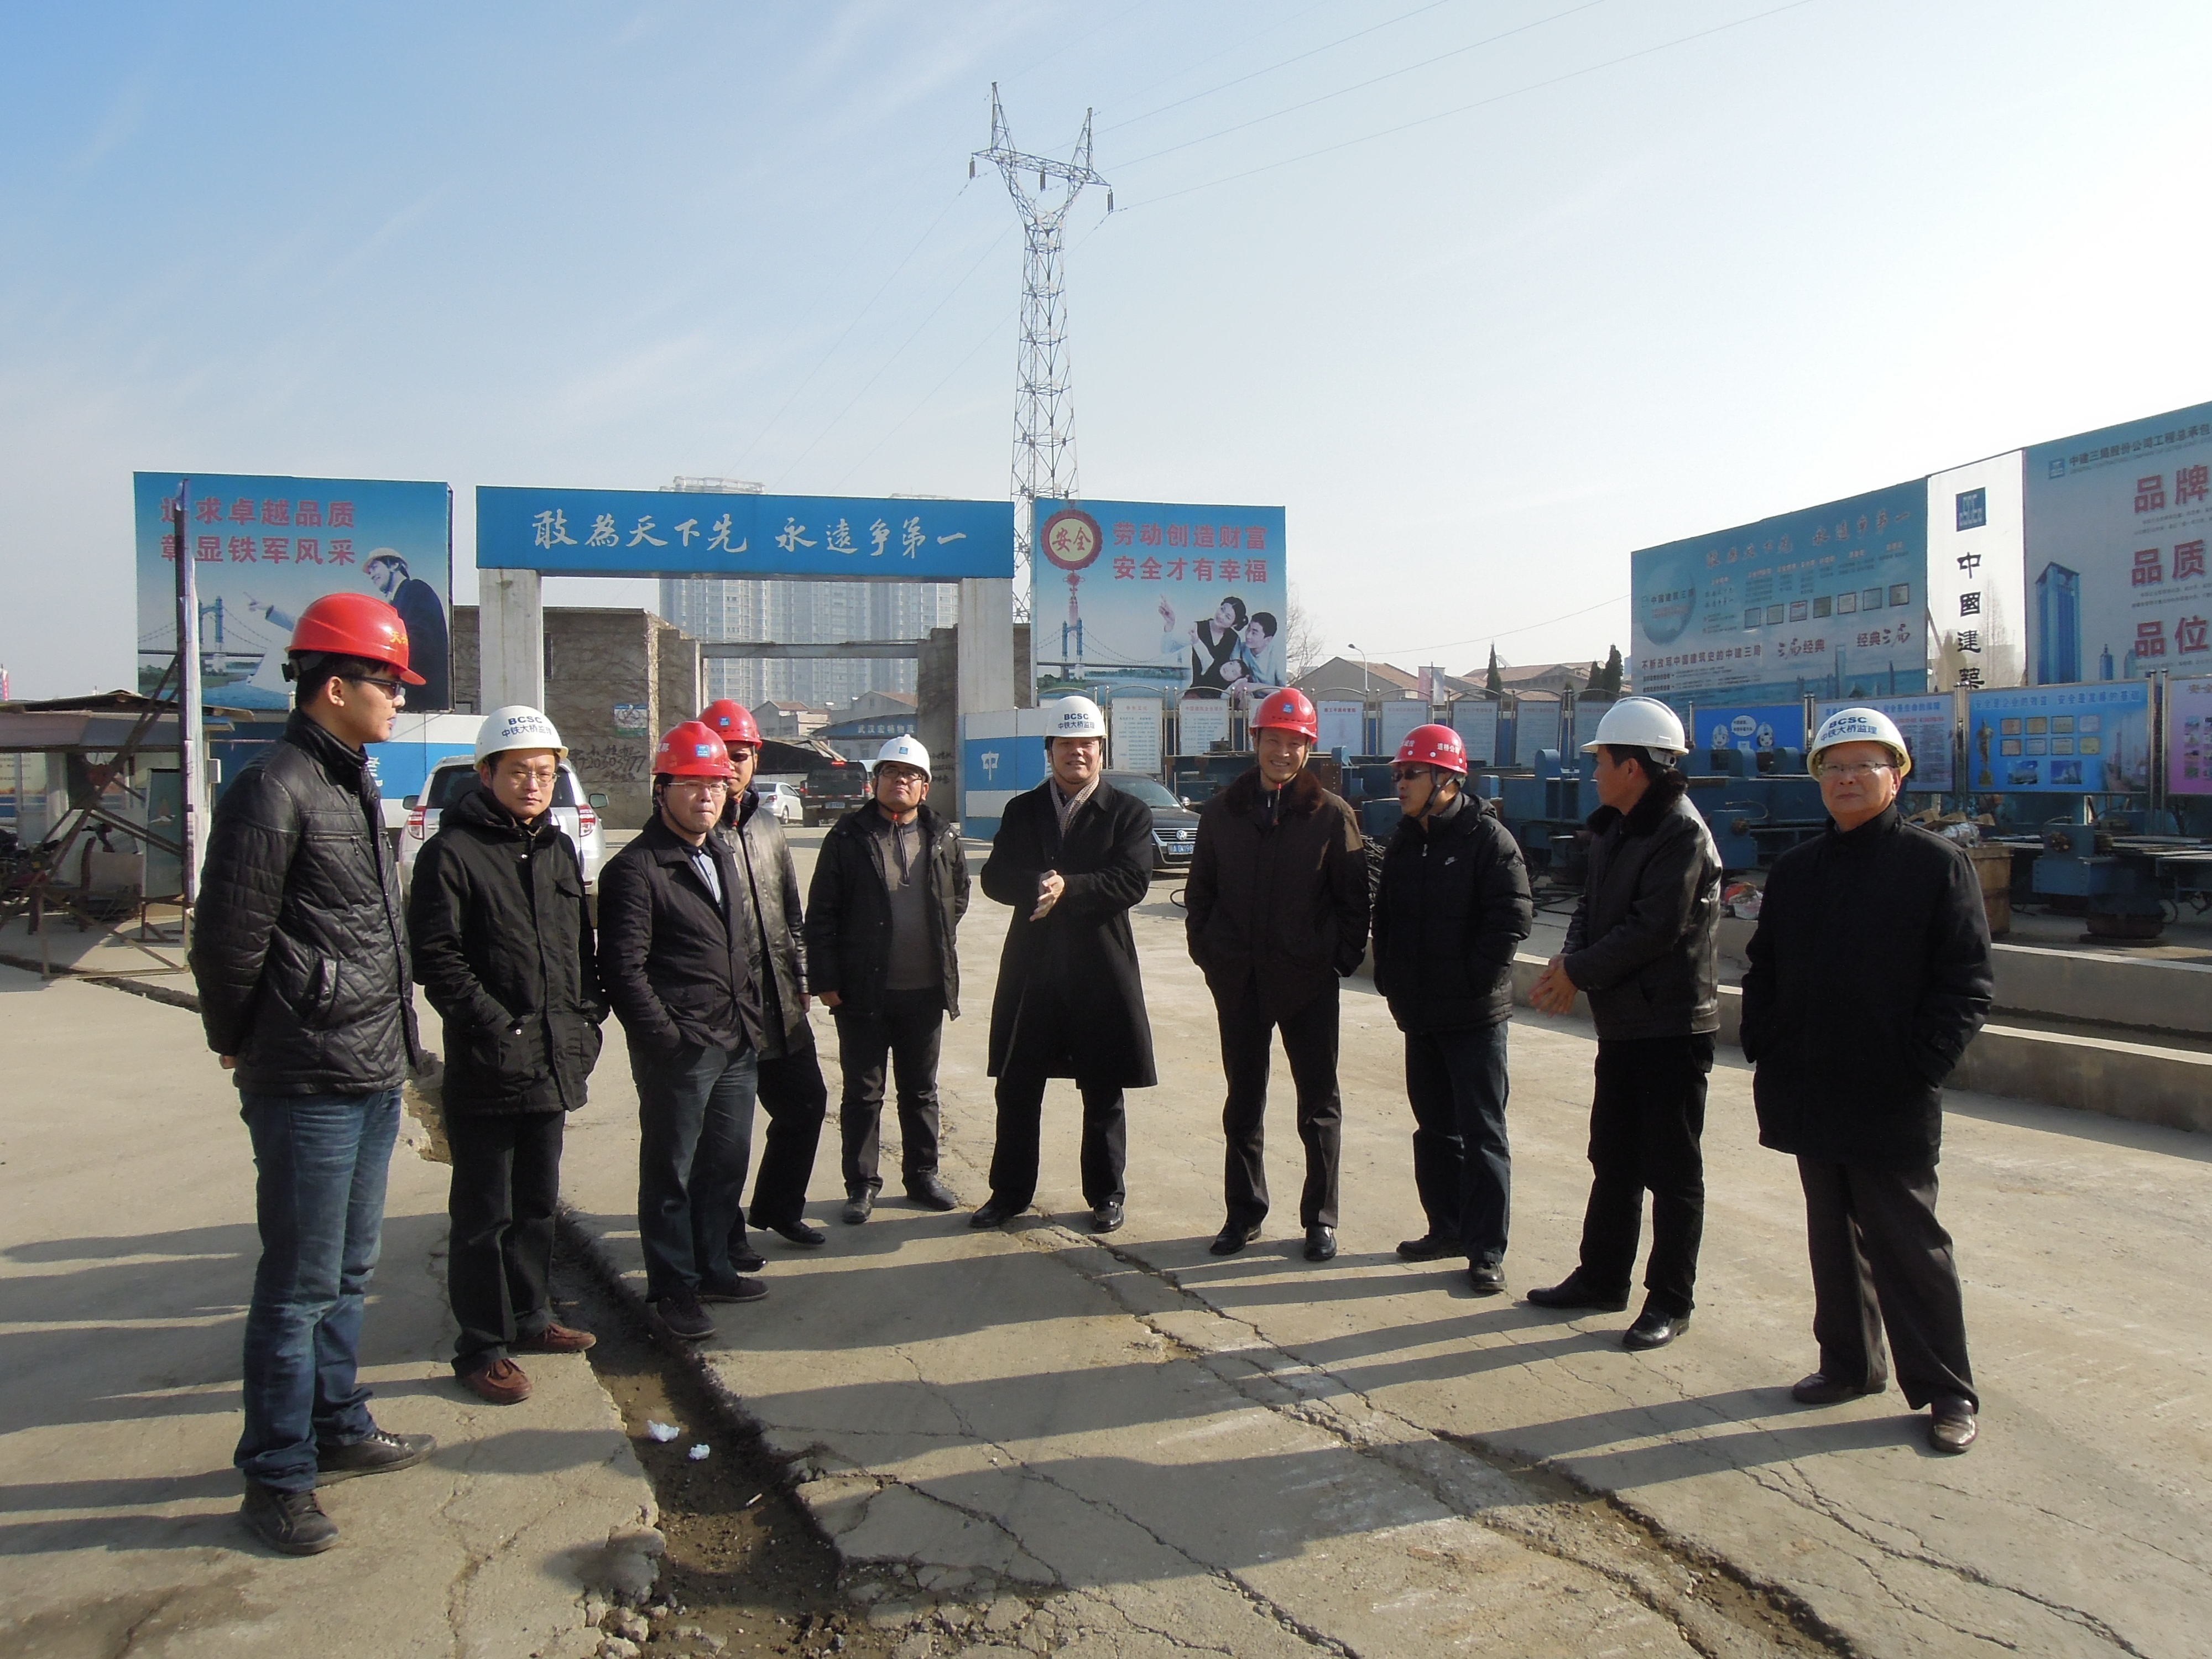none: (1244, 612, 1278, 652), (1212, 594, 1247, 631), (1217, 655, 1247, 683)
red: (275, 587, 413, 744), (639, 711, 738, 842), (1386, 718, 1475, 824), (1238, 685, 1322, 788), (691, 701, 763, 798)
white: (1810, 695, 1916, 835), (1581, 688, 1695, 812), (467, 702, 568, 830), (860, 734, 939, 816), (1040, 695, 1104, 786), (357, 545, 408, 592)
